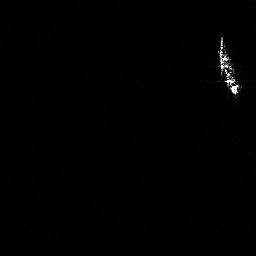ship: (213, 34, 243, 99)
